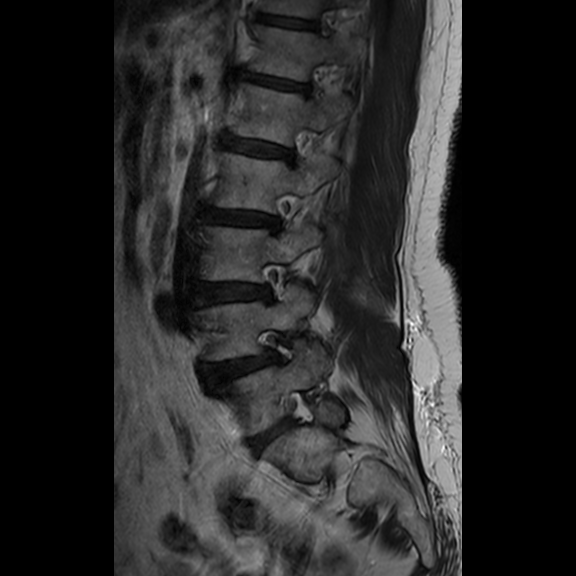RFS0: (275, 379, 330, 440), (252, 253, 304, 317), (258, 181, 307, 246)
RFS1: (251, 317, 309, 377)
